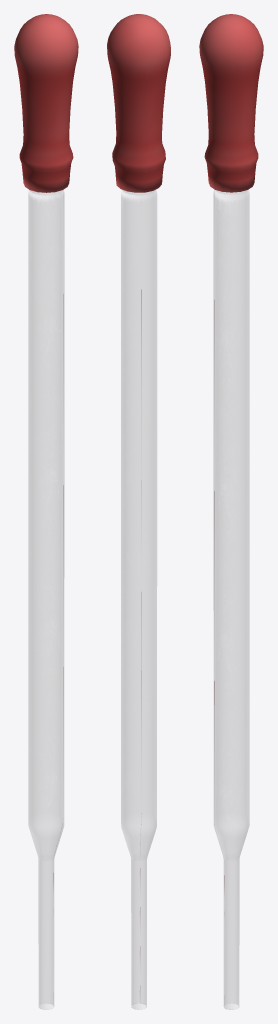
Rendered from 胶头滴管.glb.
The picture shows the model from 3 angles, left to right: view 1: azimuth 90°, elevation 25°; view 2: azimuth 150°, elevation 25°; view 3: azimuth 270°, elevation 25°; orthographic projection.
Visible parts, largest first — view 1: 胶头滴管; view 2: 胶头滴管; view 3: 胶头滴管.
Boxes of the visible parts, x1=… form: 胶头滴管: x1=14, y1=14, x2=78, y2=1009; 胶头滴管: x1=107, y1=14, x2=170, y2=1009; 胶头滴管: x1=199, y1=14, x2=263, y2=1009.
Size of the model in its own units: 0.0224 by 0.3795 by 0.0223.
1 material, 1 textured.
